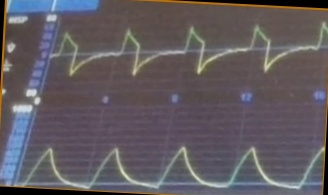Normal Flow: (53, 21, 328, 78)
Normal Volume: (19, 141, 322, 190)
